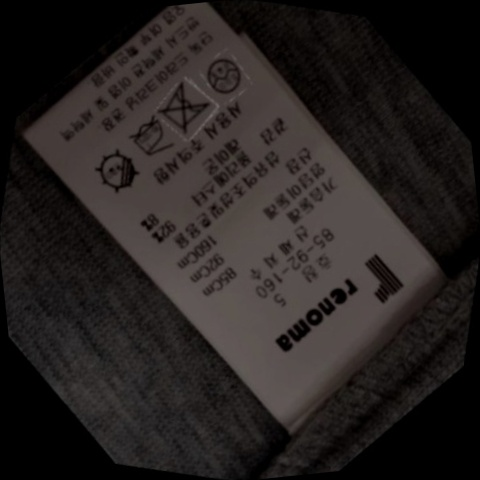DN_wash: (153, 77, 221, 140)
dry_clean_petrol_only: (199, 48, 253, 101)
iron_low: (120, 111, 181, 167)
line_dry_in_shade: (88, 143, 153, 202)
